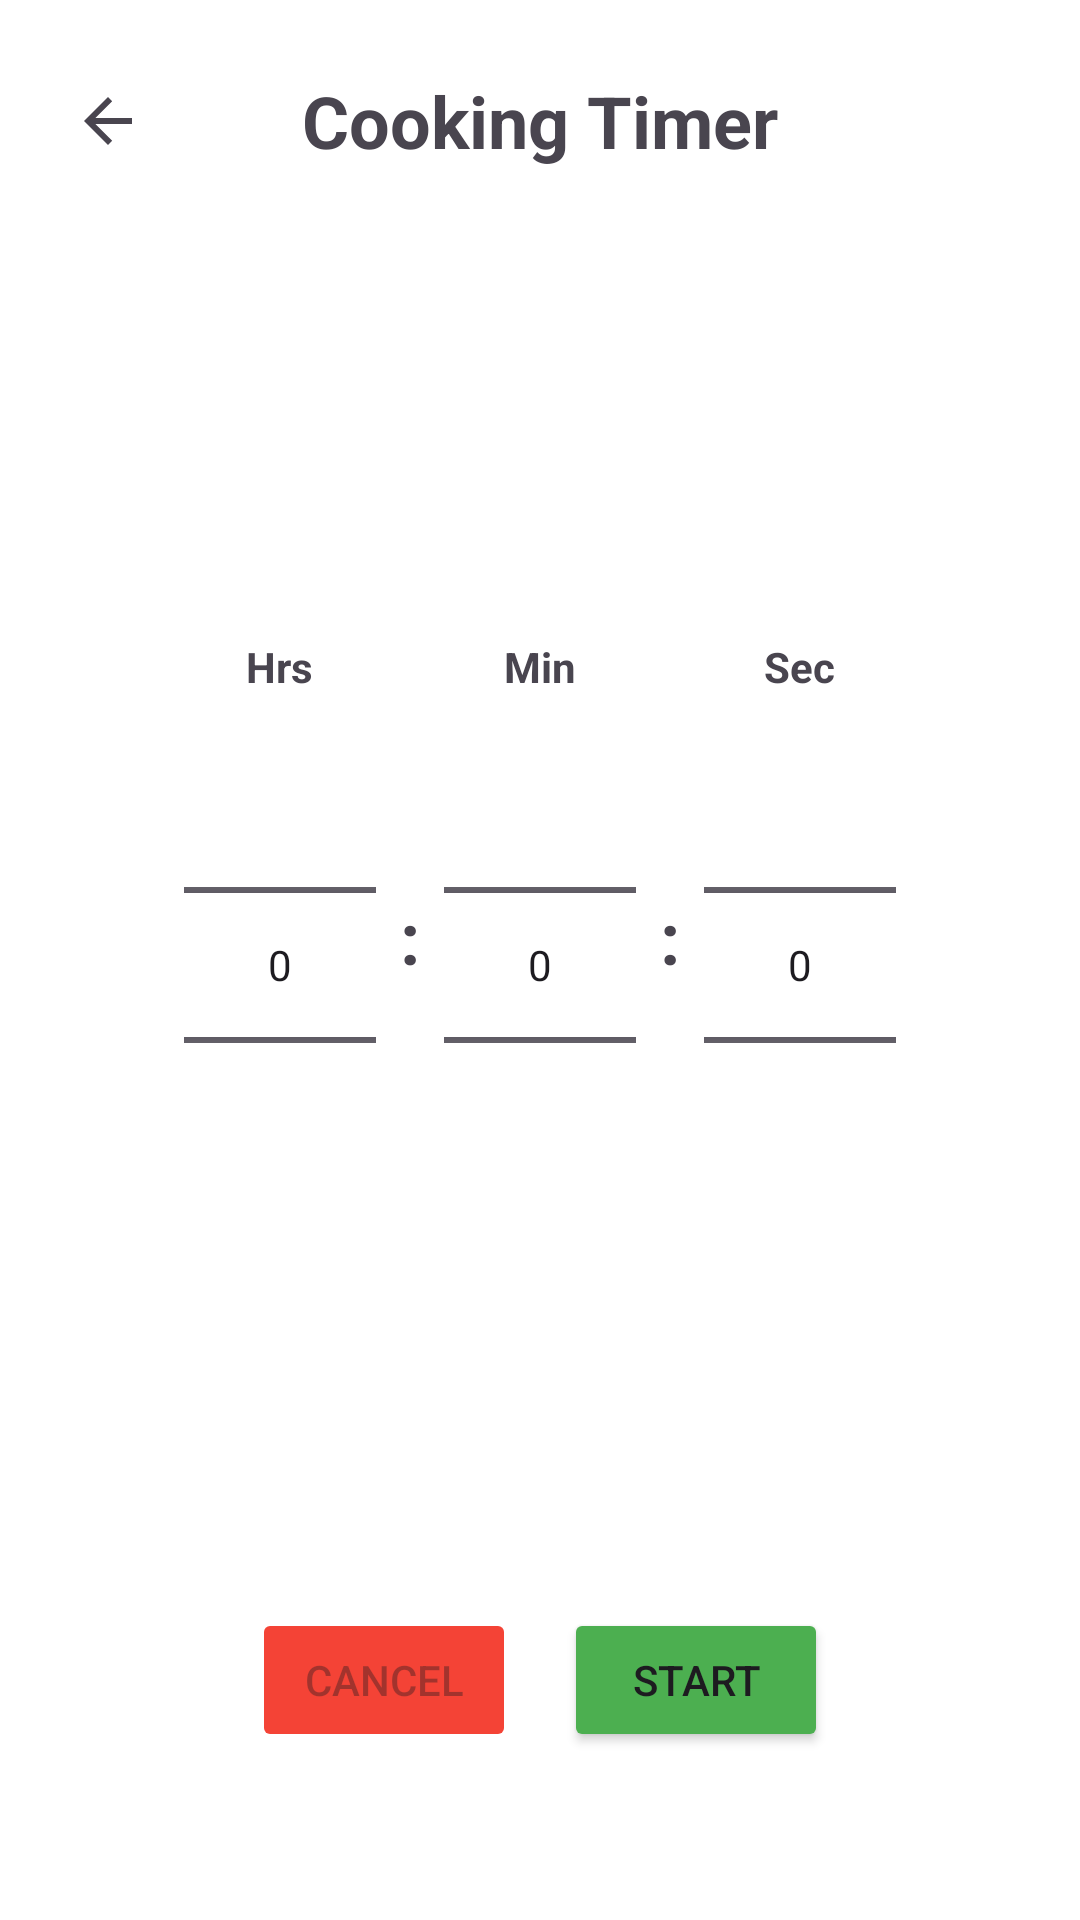

Screen size 1080 × 1920. Icon name, then its center in pixels as point (x, y):
Back: point (108, 121)
